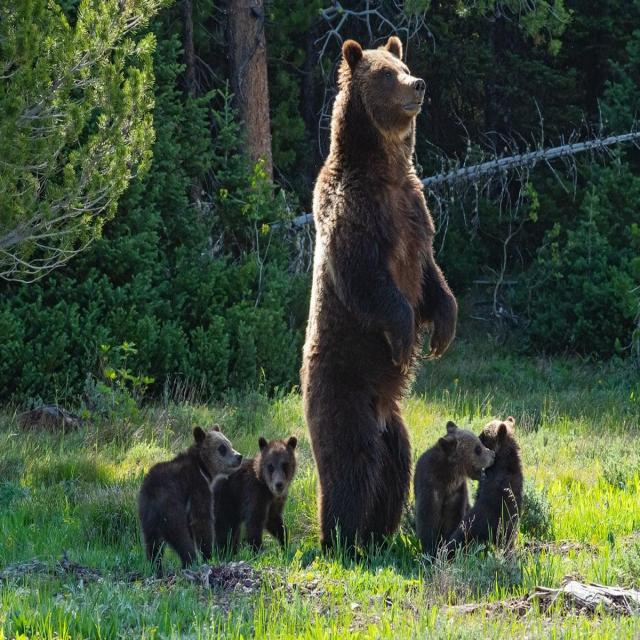Bear: (300, 36, 458, 555), (137, 430, 250, 570), (413, 422, 497, 561), (447, 417, 525, 560), (212, 437, 299, 554)
